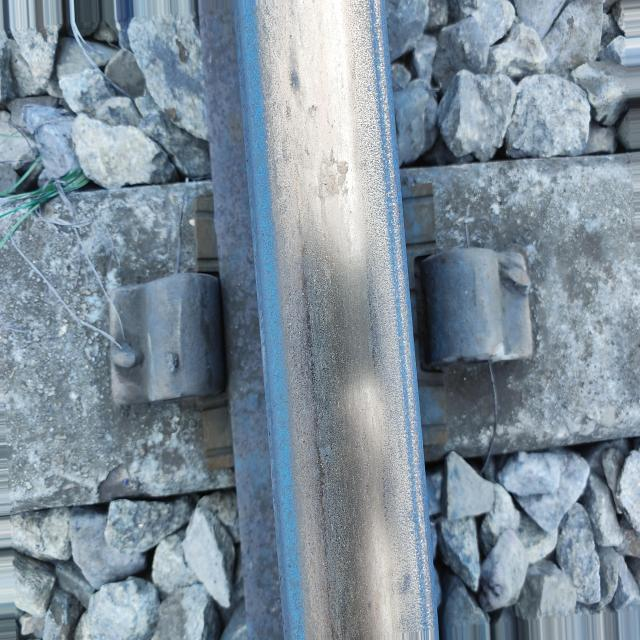Missing Fastener: (78, 237, 232, 444), (414, 211, 555, 411)
